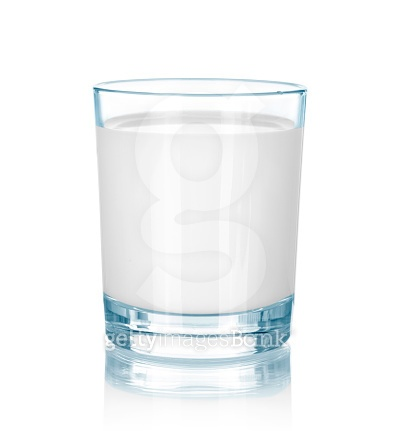glass of milk: (84, 71, 311, 371)
